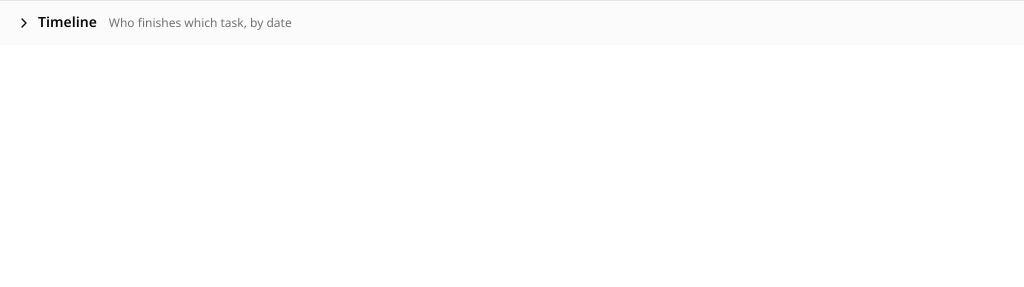
it: TimelineSection › is collapsed by default and remembers opening
This screenshot has width=1024, height=287.
Expected: the link "Build API" is not shown
Click the button "Timeline": (56, 23) [16,13,97,33]
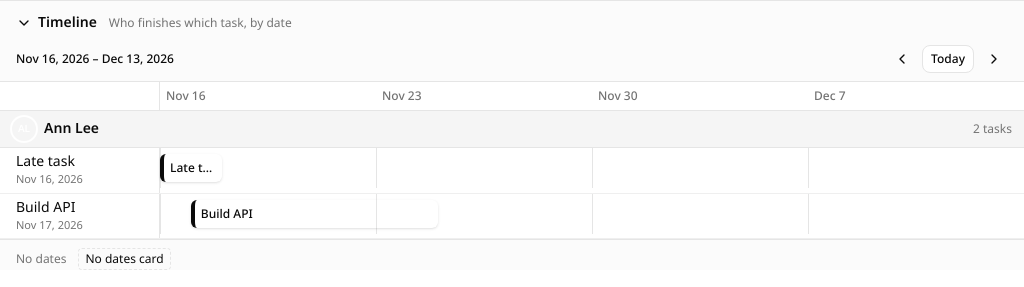
Result: the 1st text "Build API" is shown at [16,196,75,218]
